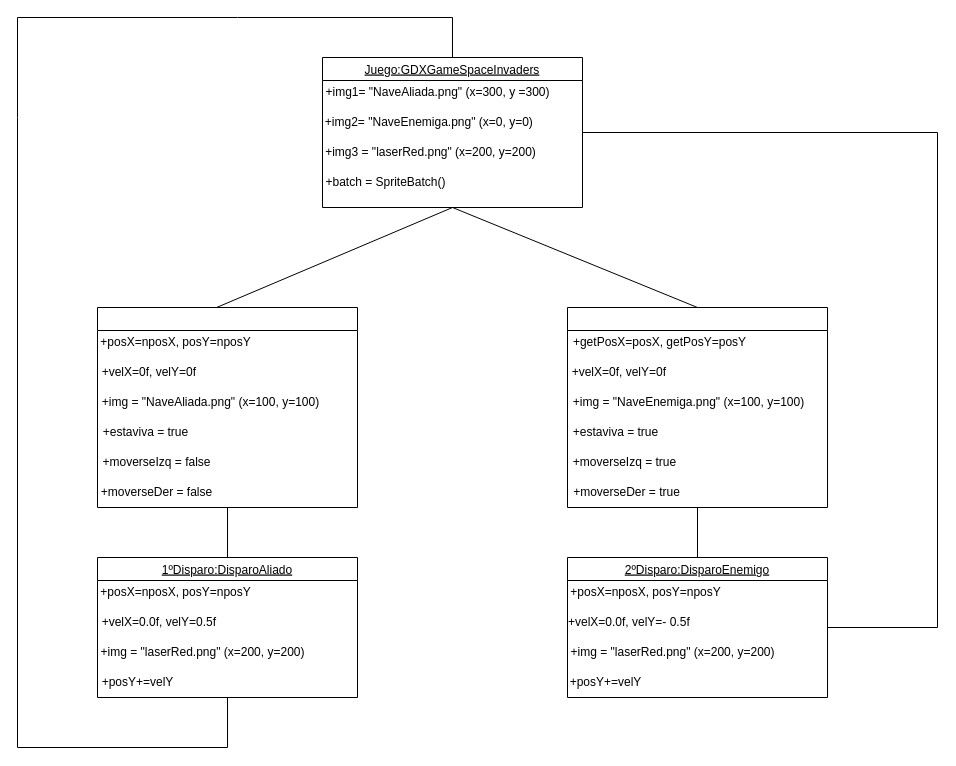
Some shapes in this 956 by 766 pixel diagram are drawn without their labels. The shapes that lost their labels are listed below. From the top down, each one's box as (x1, y1, x2, y2) in pixels, then its label:
(96, 306, 358, 508): 1ºNave: NaveAliada
(566, 306, 828, 508): 2ºNave: NaveEnemiga
